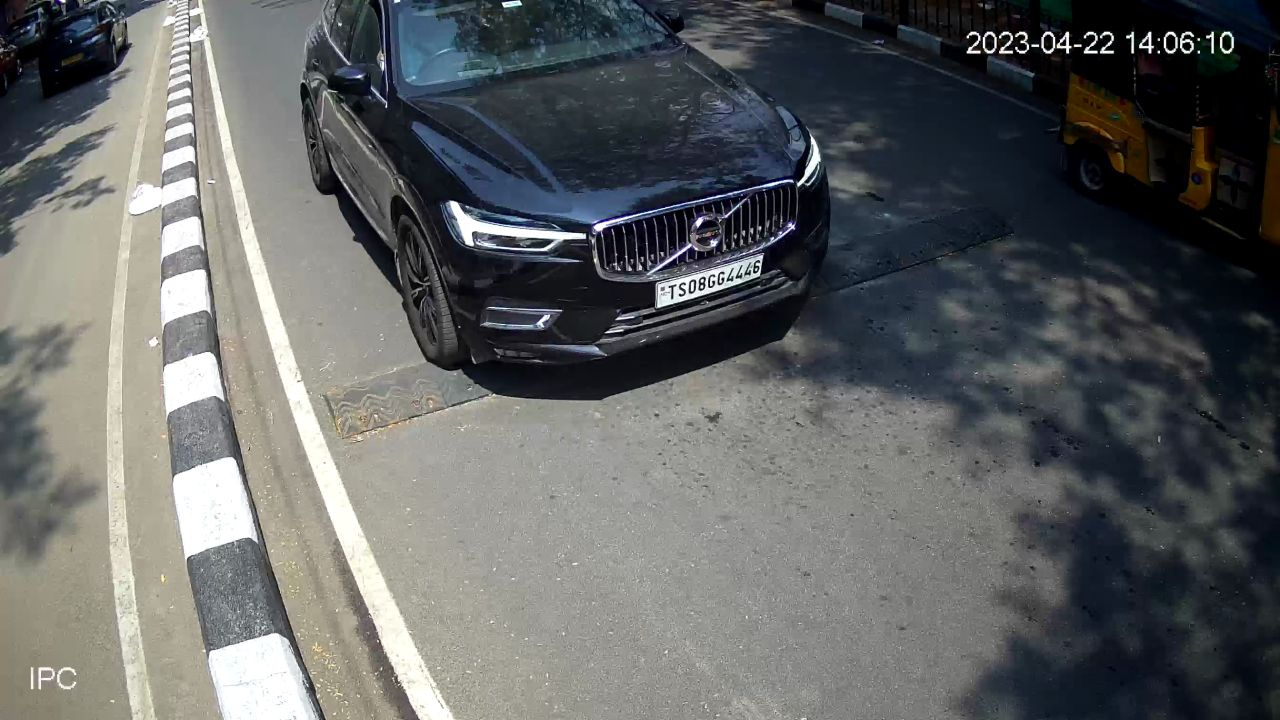license_plate: (649, 244, 770, 314)
